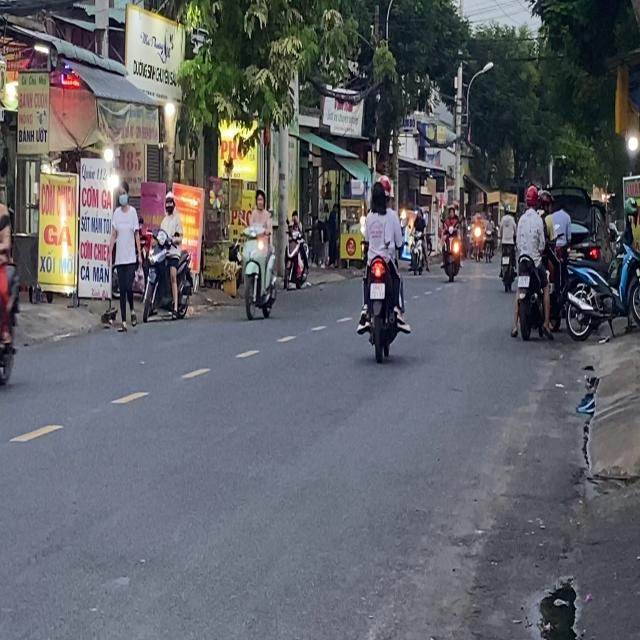helmet: (524, 184, 538, 208), (163, 192, 176, 216), (378, 174, 391, 197), (254, 187, 266, 209)
licenseplate: (356, 174, 408, 360), (143, 190, 194, 323), (512, 183, 550, 341), (239, 186, 277, 321)
motorcyclist: (369, 180, 386, 212)
nohelmet: (370, 283, 384, 298), (518, 275, 529, 287)
